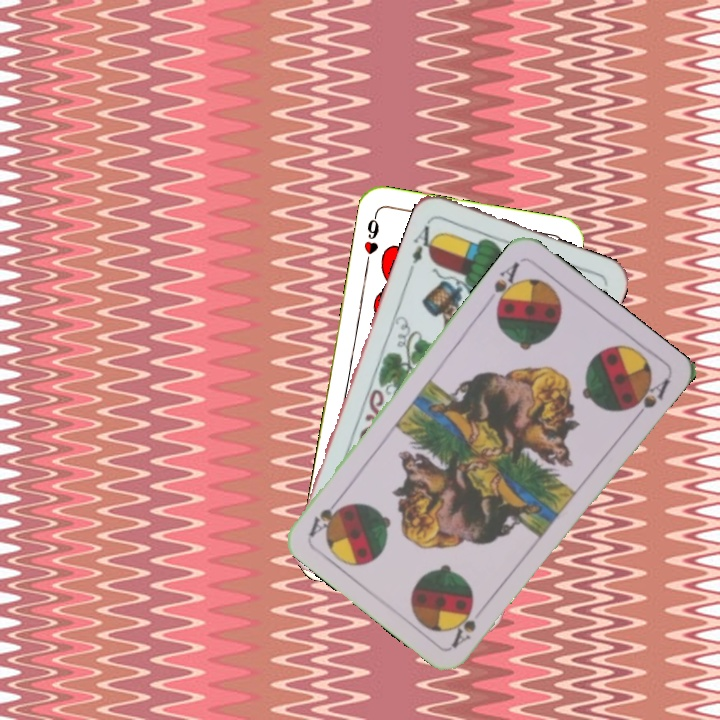EA: (405, 216, 441, 274)
H9: (359, 209, 382, 268)
SA: (447, 600, 490, 651), (490, 257, 523, 313)
